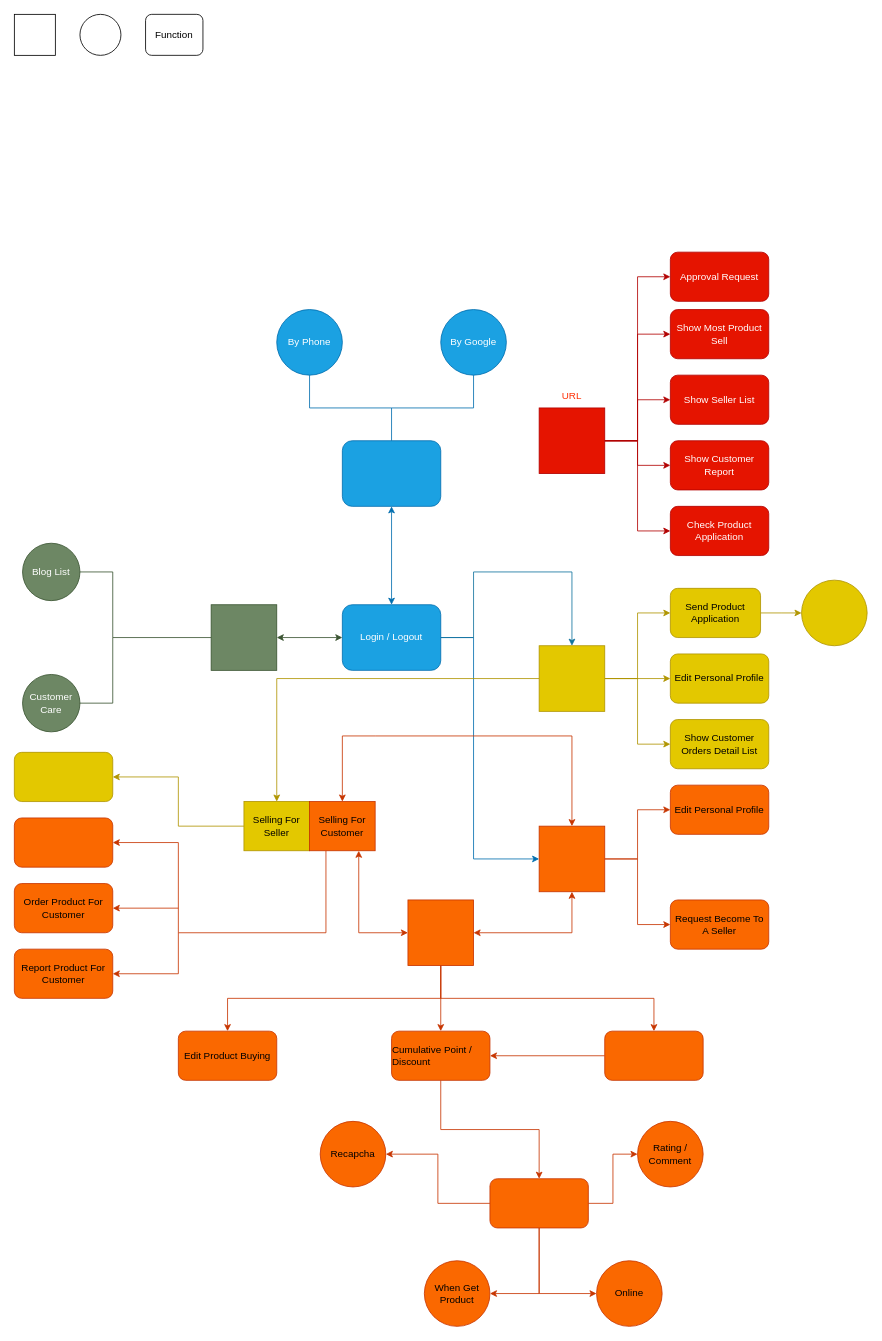
The diagram is 882 pixels wide and 1341 high, and some of its shapes have lost their labels. The shapes that lost their labels are listed below. From the top down, each one's box as (x1, y1, x2, y2) in pixels, then its label:
(14, 14, 55, 55): Page
(79, 14, 121, 55): Feature
(538, 407, 605, 474): Manager
(342, 440, 441, 506): Register
(801, 579, 867, 646): Create New Category
(210, 604, 277, 670): Home
(538, 645, 605, 711): Seller
(14, 752, 113, 802): Edit Product Selling For Seller
(14, 817, 113, 867): Top Recommend Product For Customer
(538, 825, 605, 892): Customer
(407, 899, 474, 966): Cart
(604, 1030, 703, 1080): Wish List
(489, 1178, 588, 1228): Check Out
